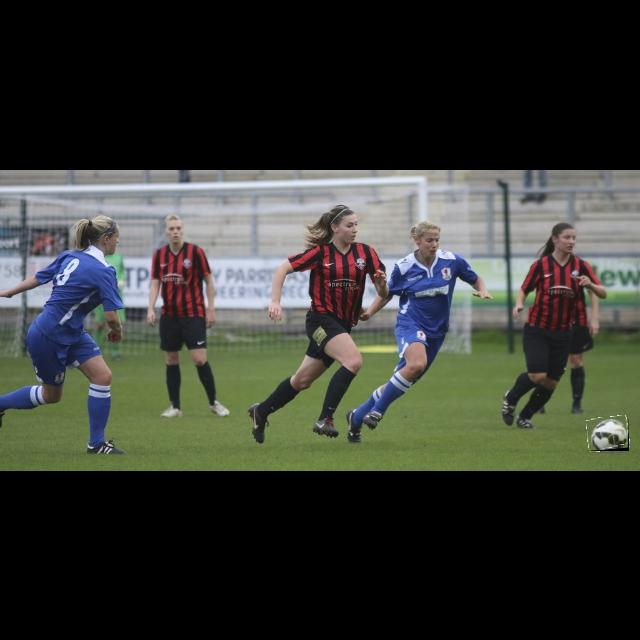Football: (587, 417, 629, 451)
